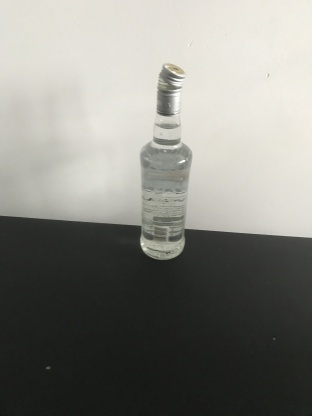nakretka: (155, 60, 186, 118)
